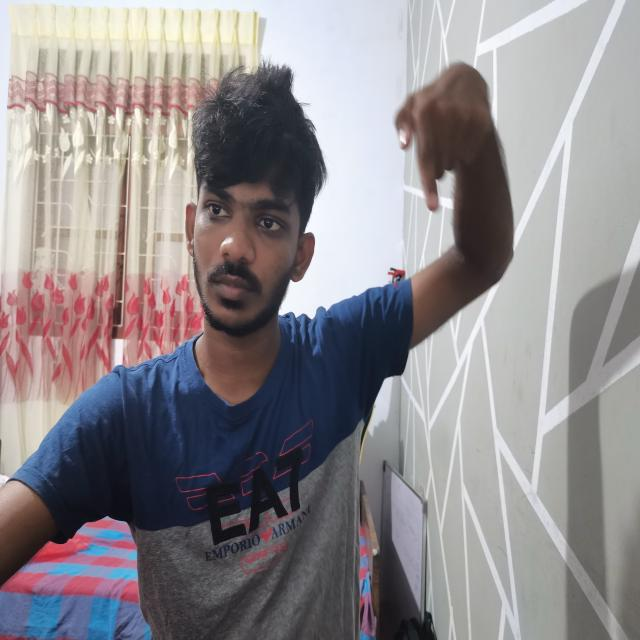Yes: (391, 50, 528, 242)
